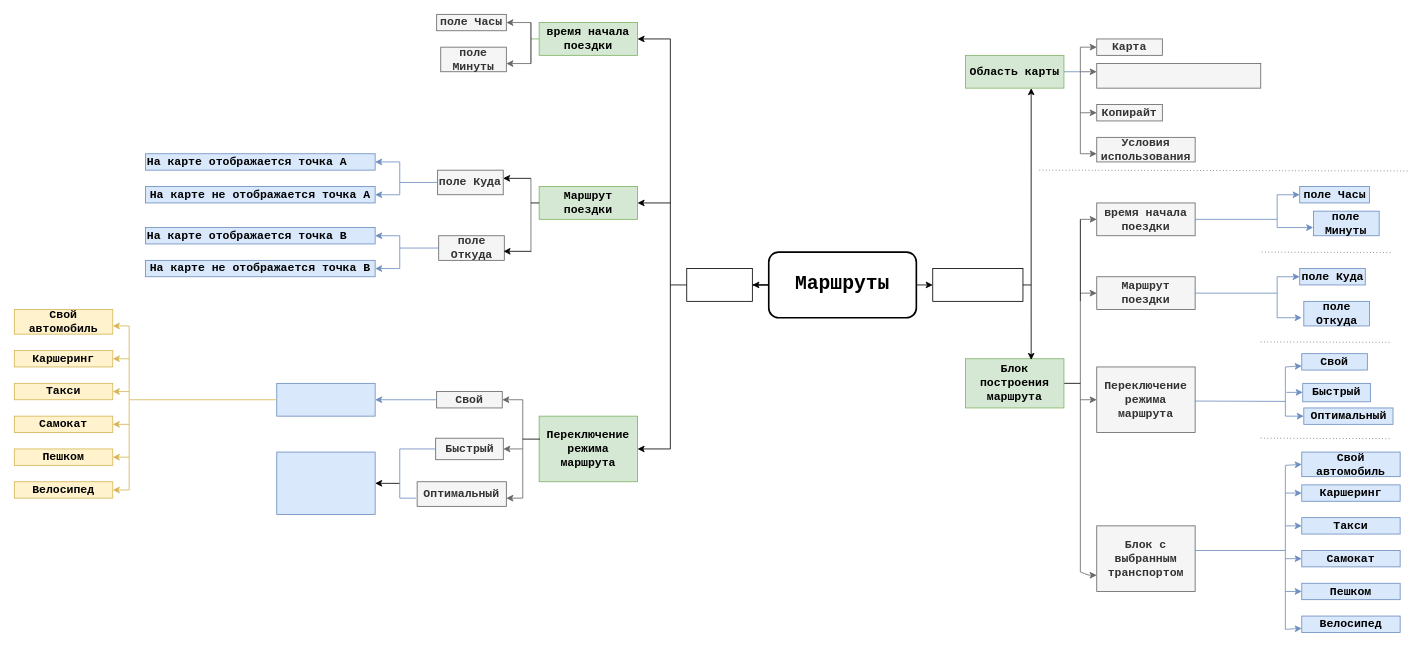
Image size: 1424x650. Some labels were removed from this diagram. The shapes that lost their labels are listed below. From the top down, each one's centre as x and y in pixels, then its label:
At (1178,75): "Ползунок для приближения / отдаления".
At (719,284): "Логика".
At (977,284): "Интерфейс".
At (325,399): "Выбор вида транспорта".
At (325,483): "Автоматическое назначение вида транспорта".
